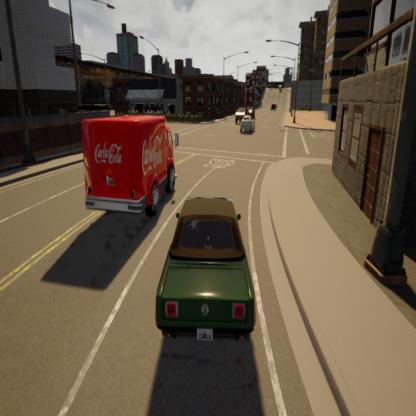Cars: (148, 180, 282, 376), (56, 76, 186, 256), (235, 109, 262, 149), (231, 93, 249, 133), (270, 96, 279, 119)
